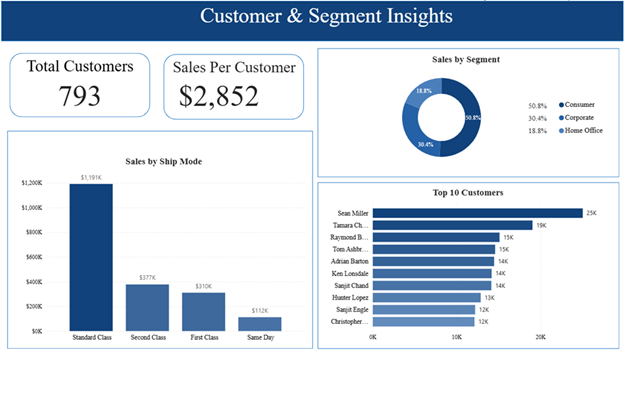

The dashboard page shown, as its layout file describes it:
{"tool":"powerbi","page":{"name":"Customer Info","canvas":[1280,720],"ordinal":2},"visuals":[{"type":"shape","box":[4,0,1270,82],"z":0},{"type":"textbox","box":[360,0,616,82],"z":1000},{"type":"shape","box":[15.9,265.4,623.6,445.1],"z":2000},{"type":"shape","box":[648.9,371.1,615.6,340],"z":3000},{"type":"shape","box":[648.9,96.7,615.6,263.3],"z":4000},{"type":"donutChart","title":"Sales by Segment","fields":{"Category":["train.Segment"],"Y":["Sum(train.Sales)"]},"box":[658.9,108.9,586.7,237.8],"z":5000},{"type":"clusteredColumnChart","title":"Sales by Ship Mode","fields":{"Y":["Sum(train.Sales)"],"Category":["train.Ship Mode"]},"box":[40,316.7,590,387.8],"z":6000},{"type":"clusteredBarChart","title":"Top 10 Customers","fields":{"Y":["Sum(train.Sales)"],"Category":["train.Customer Name"]},"box":[658.9,380,594.4,321.1],"z":7000},{"type":"cardVisual","fields":{"Data":["train.Sales %"],"Rows":["train.Segment"]},"box":[1040,173.3,101.1,126.7],"z":8000},{"type":"shape","box":[335.1,108.8,286.1,133.3],"z":9000},{"type":"shape","box":[20.8,106.4,286.1,130.8],"z":10000},{"type":"cardVisual","fields":{"Data":["train.Total Customers"]},"box":[34.2,116.2,260.5,111.3],"z":11000},{"type":"cardVisual","title":"Sales Per Customer","fields":{"Data":["train.Sales per Customer"]},"box":[348.5,116.6,260.7,111.1],"z":12000}]}

Visuals, with their boxes on the page's 1280x720 design canvas (x1, y1, x2, y2). These are canvas units, not pixel positions in the 624x395 screenshot, which may show the page scaled, cropped or inside an application window:
shape: detection(4, 0, 1274, 82)
textbox: detection(360, 0, 976, 82)
shape: detection(16, 265, 640, 710)
shape: detection(649, 371, 1264, 711)
shape: detection(649, 97, 1264, 360)
"Sales by Segment" donutChart: detection(659, 109, 1246, 347)
"Sales by Ship Mode" clusteredColumnChart: detection(40, 317, 630, 704)
"Top 10 Customers" clusteredBarChart: detection(659, 380, 1253, 701)
cardVisual - train.Sales % x train.Segment: detection(1040, 173, 1141, 300)
shape: detection(335, 109, 621, 242)
shape: detection(21, 106, 307, 237)
cardVisual - train.Total Customers: detection(34, 116, 295, 228)
"Sales Per Customer" cardVisual: detection(348, 117, 609, 228)
